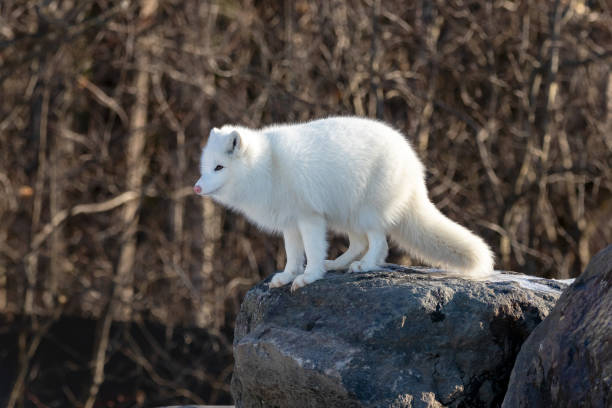arcticfox: (182, 130, 248, 225)
